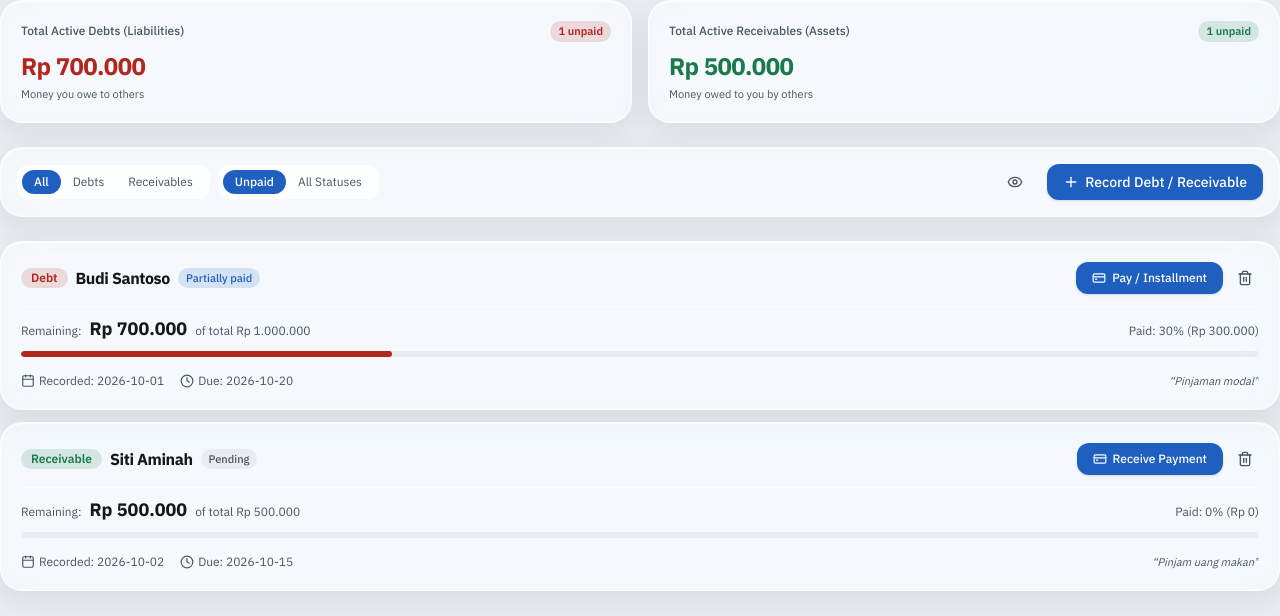
Test: DebtView › filters by type: Debts and Receivables
// Click 'Debts'
Click the button "Debts" at (88, 182), box [61,170,116,194]
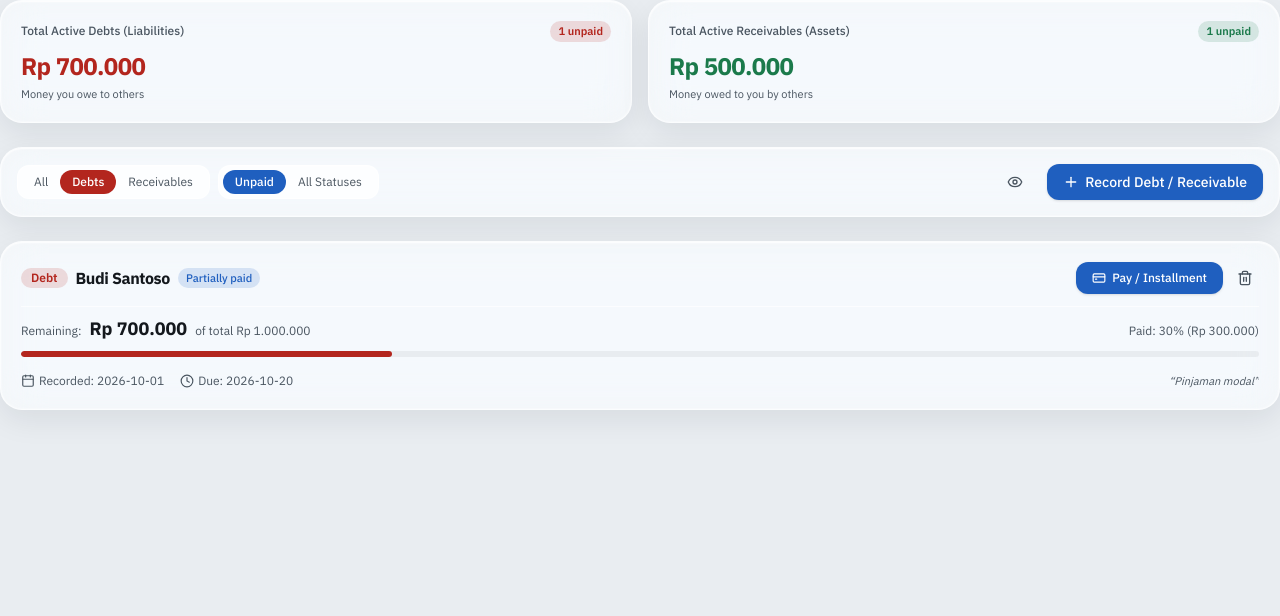
Expected: the text "Budi Santoso" is shown, [76,266,170,290]
Expected: the text "Siti Aminah" is gone
// Click 'Receivables'
Click the button "Receivables" at (161, 182), box [116,170,205,194]
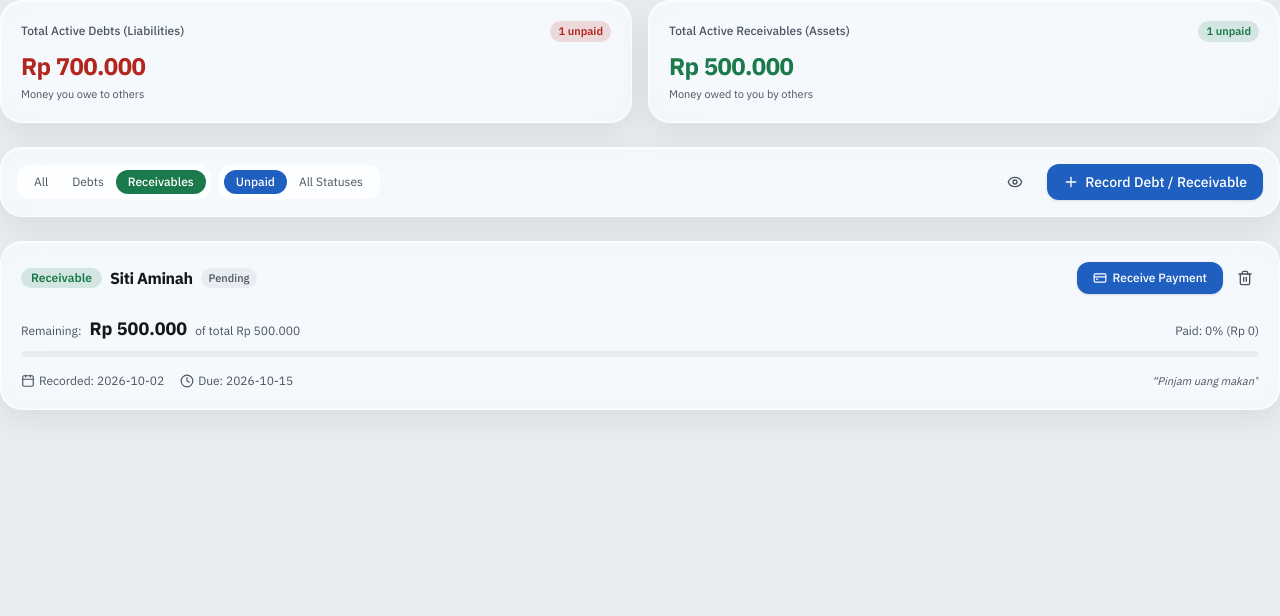
Expected: the text "Budi Santoso" is gone
Expected: the text "Siti Aminah" is shown, [110,266,193,290]
